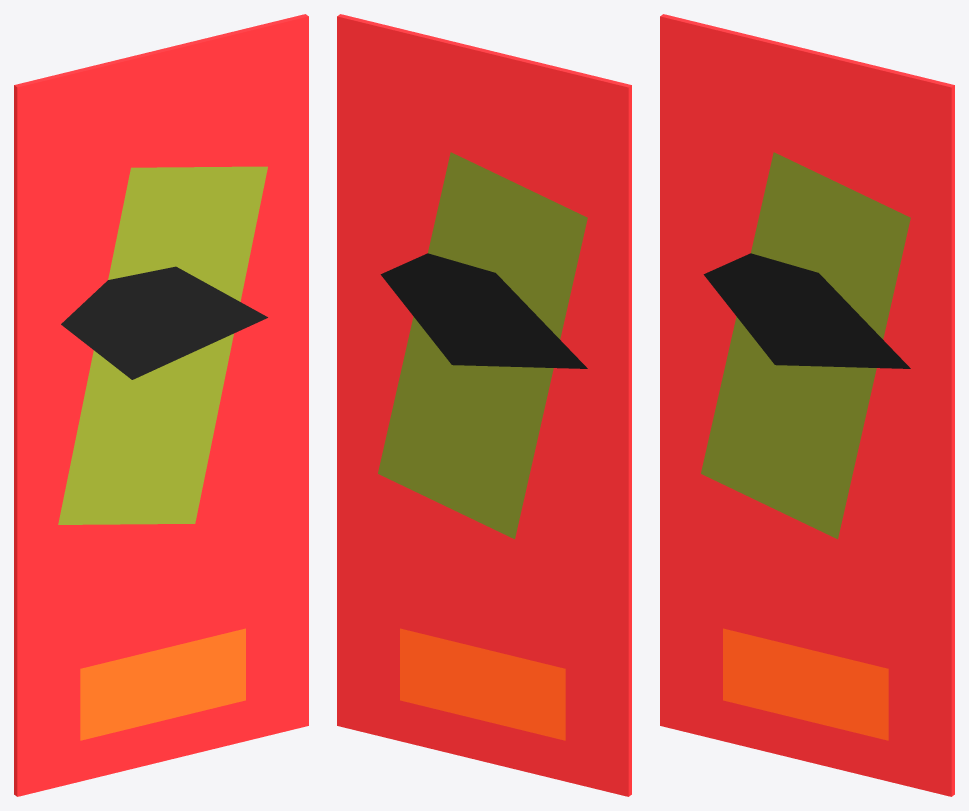
Rendered from scifi_scifi-projection-f.fbx.
3 views of the same model, side by side, from view 1: azimuth 30°, elevation 25°; view 2: azimuth 150°, elevation 25°; view 3: azimuth 330°, elevation 25° (orthographic).
Visible parts, largest first — view 1: scifi_scifi_projection_f; view 2: scifi_scifi_projection_f; view 3: scifi_scifi_projection_f.
Part boxes in pixels (x1,y1,x2,y2): scifi_scifi_projection_f: [14, 14, 308, 796]; scifi_scifi_projection_f: [337, 14, 631, 796]; scifi_scifi_projection_f: [660, 14, 954, 796].
Bounding box in the file's own units: 85.97 × 200 × 1.69.
